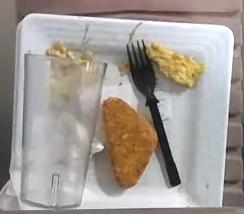hash: (102, 97, 156, 186)
scrambled_eggs: (146, 42, 204, 85)
